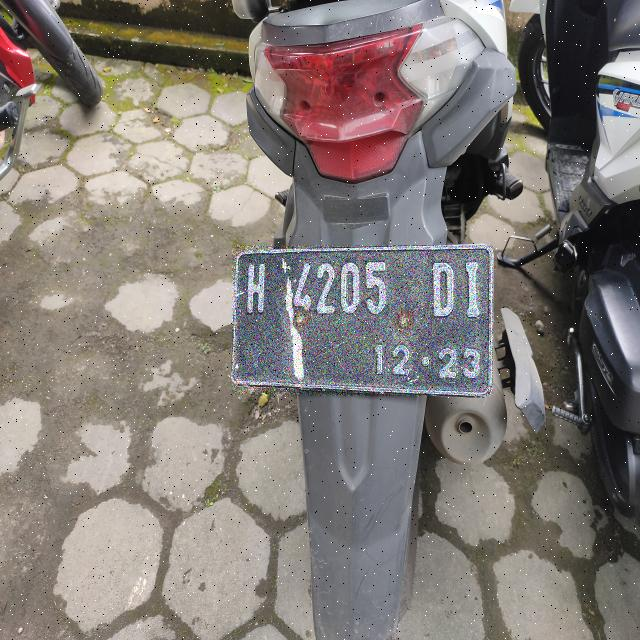plate: (233, 245, 492, 395)
